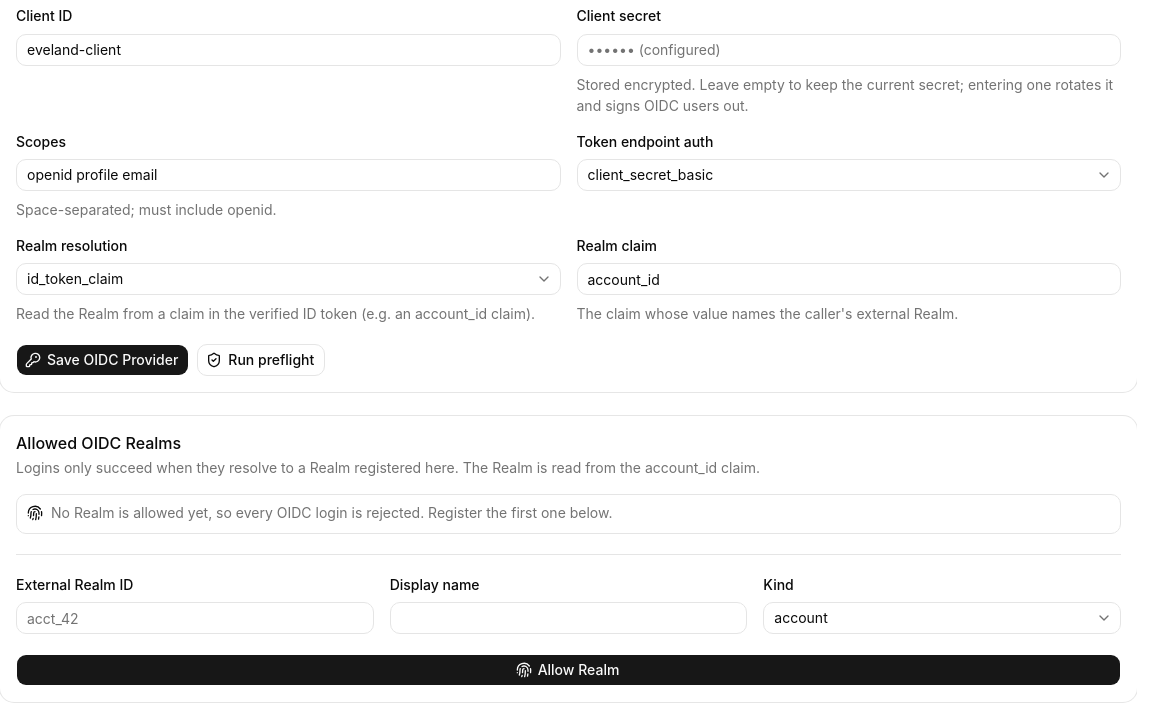
Scenario: IdentitySettings OIDC configuration › surfaces failing preflight checks by name
(page scrolled)
Step 1. Click the button "Run preflight" → x=261, y=360, box [197,344,325,376]
(page scrolled)
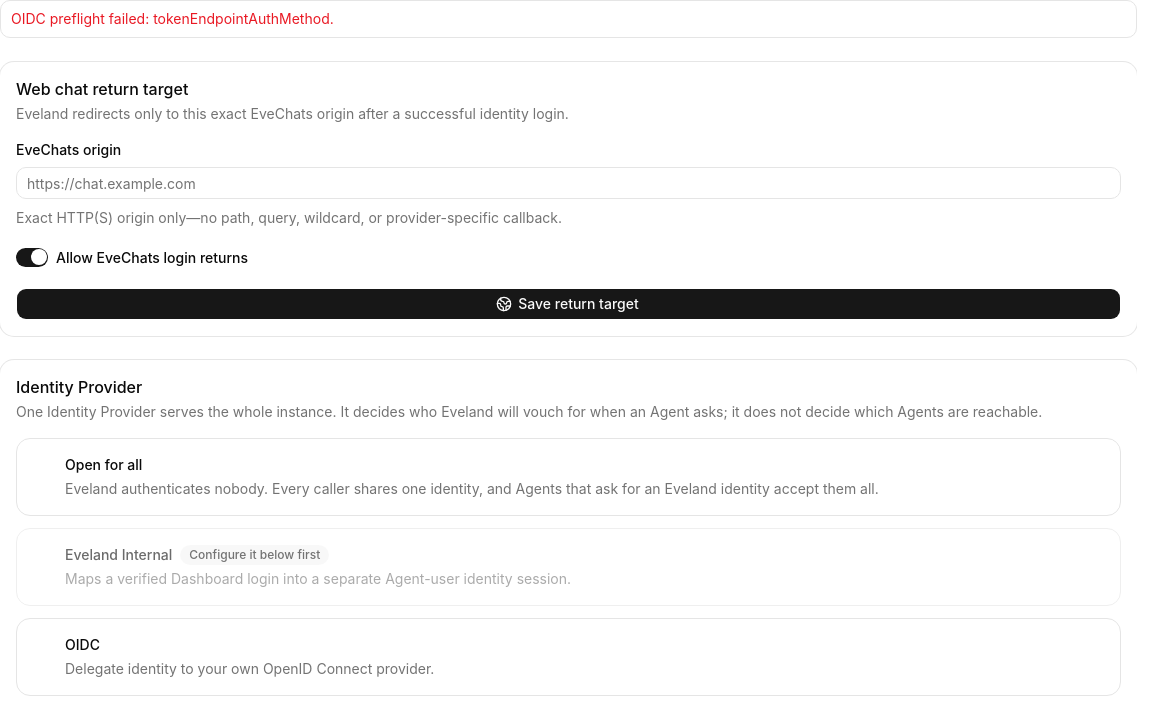
Result: the text "OIDC preflight failed: tokenEndpointAuthMethod." is shown at [11,10,334,27]
